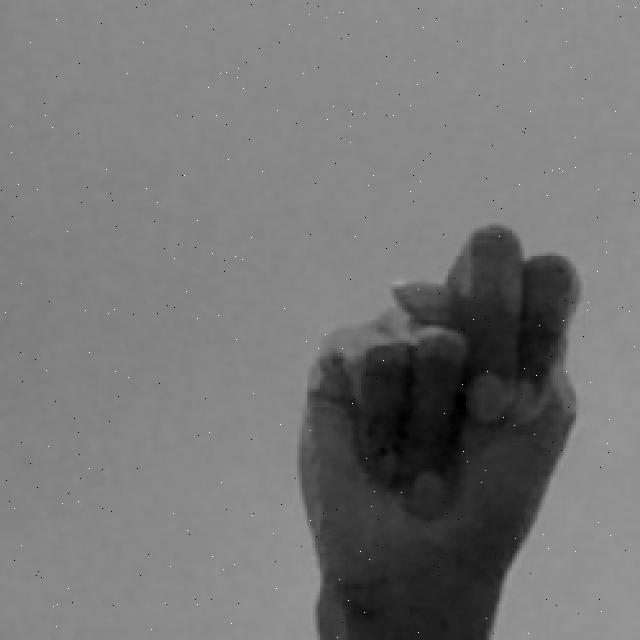N: (276, 210, 589, 640)
